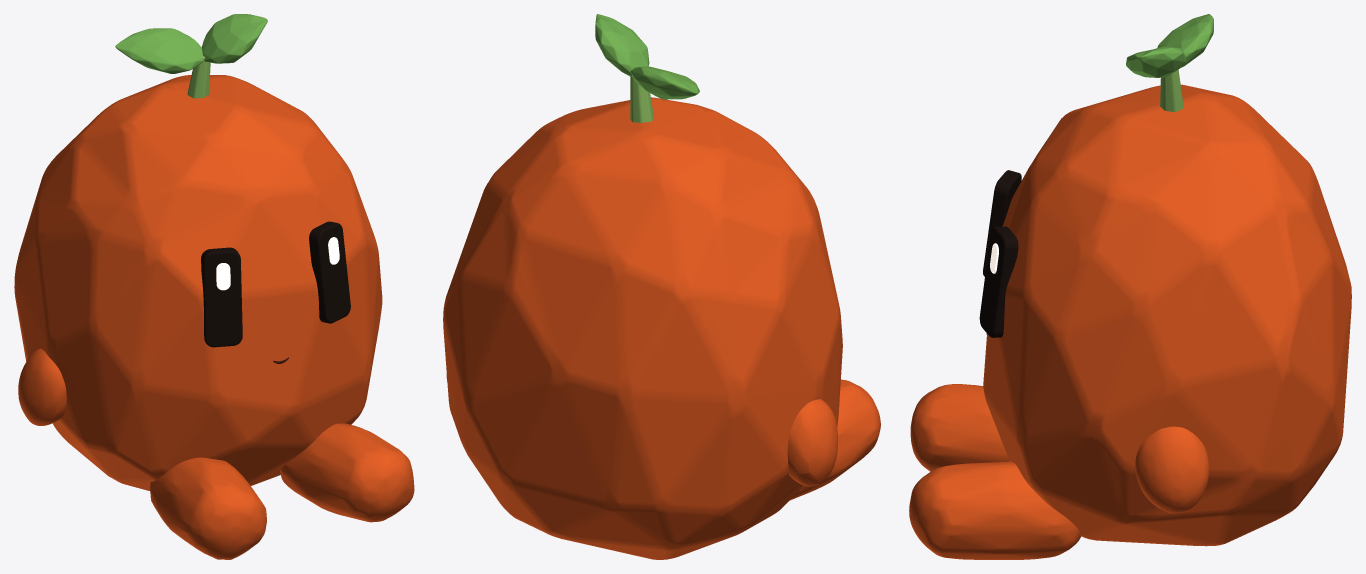
The model's file is avani.glb.
3 views of the same model, side by side, from view 1: azimuth 30°, elevation 25°; view 2: azimuth 150°, elevation 25°; view 3: azimuth 270°, elevation 25° (orthographic). The views are drawn at different scales.
Parts seen in each view (by area): view 1: Body, Leg_L, Leg_R, Eye_R, Eye_L, Leaf_R, Arm_R, Leaf_L, Stem; view 2: Body, Arm_R, Leg_R, Leaf_L, Leaf_R, Stem; view 3: Body, Leg_L, Leg_R, Arm_L, Eye_L, Leaf_R, Leaf_L, Eye_R, Stem.
Part boxes in pixels (x1,y1,x2,y2): Body: (14,75,382,490); Leg_L: (280,423,414,522); Leg_R: (150,457,266,559); Eye_R: (201,247,242,347); Eye_L: (309,221,350,323); Leaf_R: (115,28,203,73); Arm_R: (18,348,66,425); Leaf_L: (202,14,267,63); Stem: (187,56,210,98); Body: (443,97,842,559); Arm_R: (787,399,837,486); Leg_R: (790,379,880,500); Leaf_L: (595,14,649,76); Leaf_R: (631,66,699,99); Stem: (630,76,653,122); Body: (983,84,1351,546); Leg_L: (909,461,1081,559); Leg_R: (910,384,1009,471); Arm_L: (1135,426,1209,513); Eye_L: (979,226,1018,337); Leaf_R: (1157,14,1213,67); Leaf_L: (1126,46,1185,77); Eye_R: (983,170,1021,276); Stem: (1160,69,1183,111).
Bounding box in the file's own units: 1.97 × 2.44 × 1.97.
